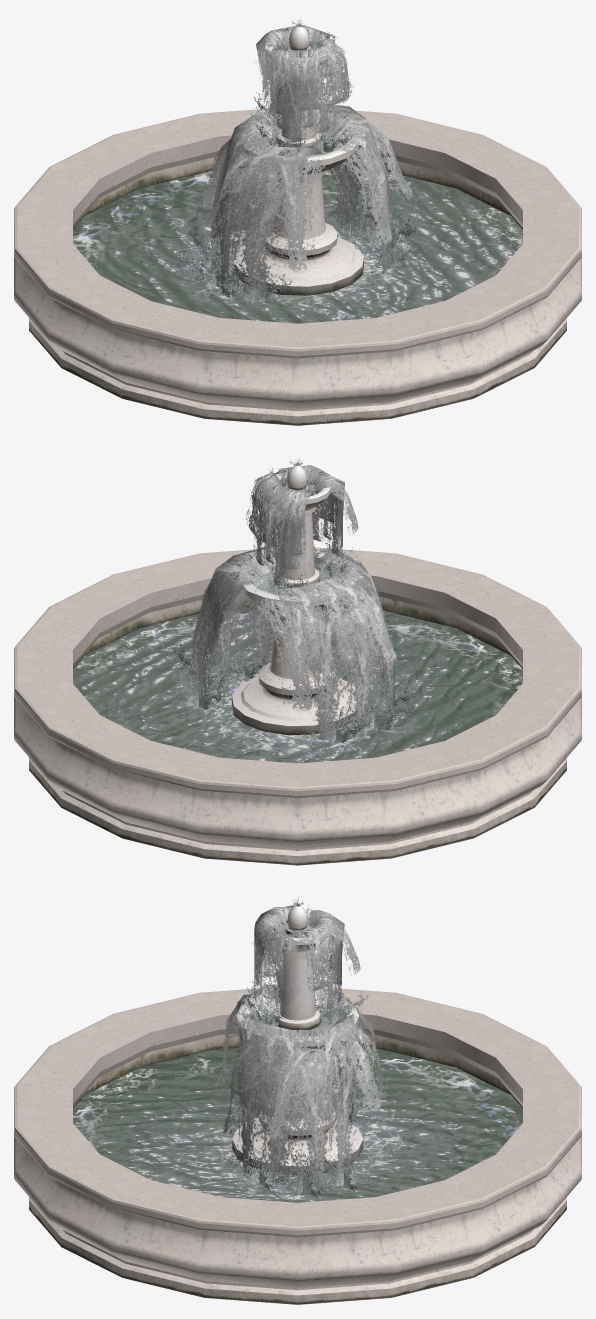
The model's file is fountain2.glb.
3 views of the same model, one above another, from view 1: azimuth 30°, elevation 25°; view 2: azimuth 150°, elevation 25°; view 3: azimuth 270°, elevation 25° (orthographic).
Parts seen in each view (by area): view 1: Object002_Material #2_0, Object002_Material #3_0, Object002_Material #23_0, Object006_Material #49_0, Object005_Material #49_0, Plane001, Plane009, Plane007, Plane008, Object004_Material #49_0, Plane006, Object007_Material #49_0 (+3 smaller); view 2: Object002_Material #2_0, Object002_Material #3_0, Object002_Material #23_0, Plane001, Plane009, Plane005, Plane007, Object008_Material #49_0, Object003_Material #49_0, Plane010, Plane006, Plane008 (+1 smaller); view 3: Object002_Material #2_0, Object002_Material #3_0, Object002_Material #23_0, Object004_Material #49_0, Object003_Material #49_0, Object005_Material #49_0, Plane007, Object009_Material #49_0, Plane006, Plane005, Object006_Material #49_0, Plane014 (+2 smaller).
Boxes of the visible parts, x1=… form: Object002_Material #2_0: x1=14, y1=109, x2=581, y2=425; Object002_Material #3_0: x1=73, y1=167, x2=522, y2=323; Object002_Material #23_0: x1=211, y1=25, x2=393, y2=299; Object006_Material #49_0: x1=248, y1=151, x2=345, y2=272; Object005_Material #49_0: x1=332, y1=135, x2=393, y2=246; Plane001: x1=199, y1=137, x2=265, y2=227; Plane009: x1=171, y1=243, x2=251, y2=296; Plane007: x1=351, y1=202, x2=424, y2=250; Plane008: x1=218, y1=265, x2=292, y2=305; Object004_Material #49_0: x1=342, y1=116, x2=412, y2=201; Plane006: x1=354, y1=228, x2=426, y2=269; Object007_Material #49_0: x1=259, y1=49, x2=291, y2=116; Object002_Material #2_0: x1=14, y1=547, x2=581, y2=865; Object002_Material #3_0: x1=73, y1=607, x2=522, y2=763; Object002_Material #23_0: x1=192, y1=465, x2=395, y2=739; Plane001: x1=250, y1=585, x2=396, y2=711; Plane009: x1=342, y1=678, x2=421, y2=737; Plane005: x1=168, y1=663, x2=235, y2=715; Plane007: x1=172, y1=640, x2=251, y2=694; Object008_Material #49_0: x1=256, y1=487, x2=290, y2=554; Object003_Material #49_0: x1=208, y1=569, x2=249, y2=663; Plane010: x1=306, y1=706, x2=370, y2=745; Plane006: x1=214, y1=636, x2=271, y2=685; Plane008: x1=357, y1=667, x2=422, y2=711; Object002_Material #2_0: x1=14, y1=987, x2=581, y2=1304; Object002_Material #3_0: x1=73, y1=1047, x2=522, y2=1202; Object002_Material #23_0: x1=232, y1=905, x2=363, y2=1191; Object004_Material #49_0: x1=258, y1=1047, x2=340, y2=1139; Object003_Material #49_0: x1=322, y1=1025, x2=387, y2=1113; Object005_Material #49_0: x1=223, y1=1025, x2=284, y2=1135; Plane007: x1=258, y1=1143, x2=336, y2=1201; Object009_Material #49_0: x1=262, y1=929, x2=300, y2=1005; Plane006: x1=223, y1=1141, x2=287, y2=1192; Plane005: x1=309, y1=1143, x2=373, y2=1193; Object006_Material #49_0: x1=214, y1=994, x2=259, y2=1092; Plane014: x1=314, y1=990, x2=368, y2=1026.
Bounding box in the file's own units: 682 × 381 × 672.
5 materials, 5 textured.
